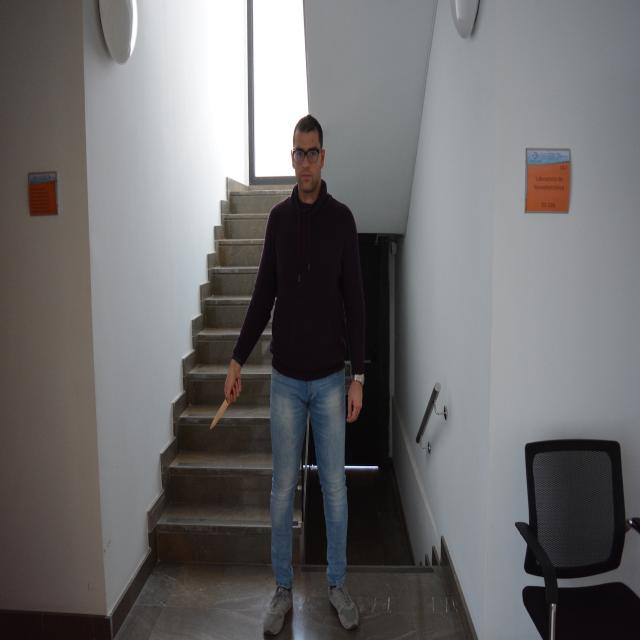knife: (206, 395, 233, 433)
